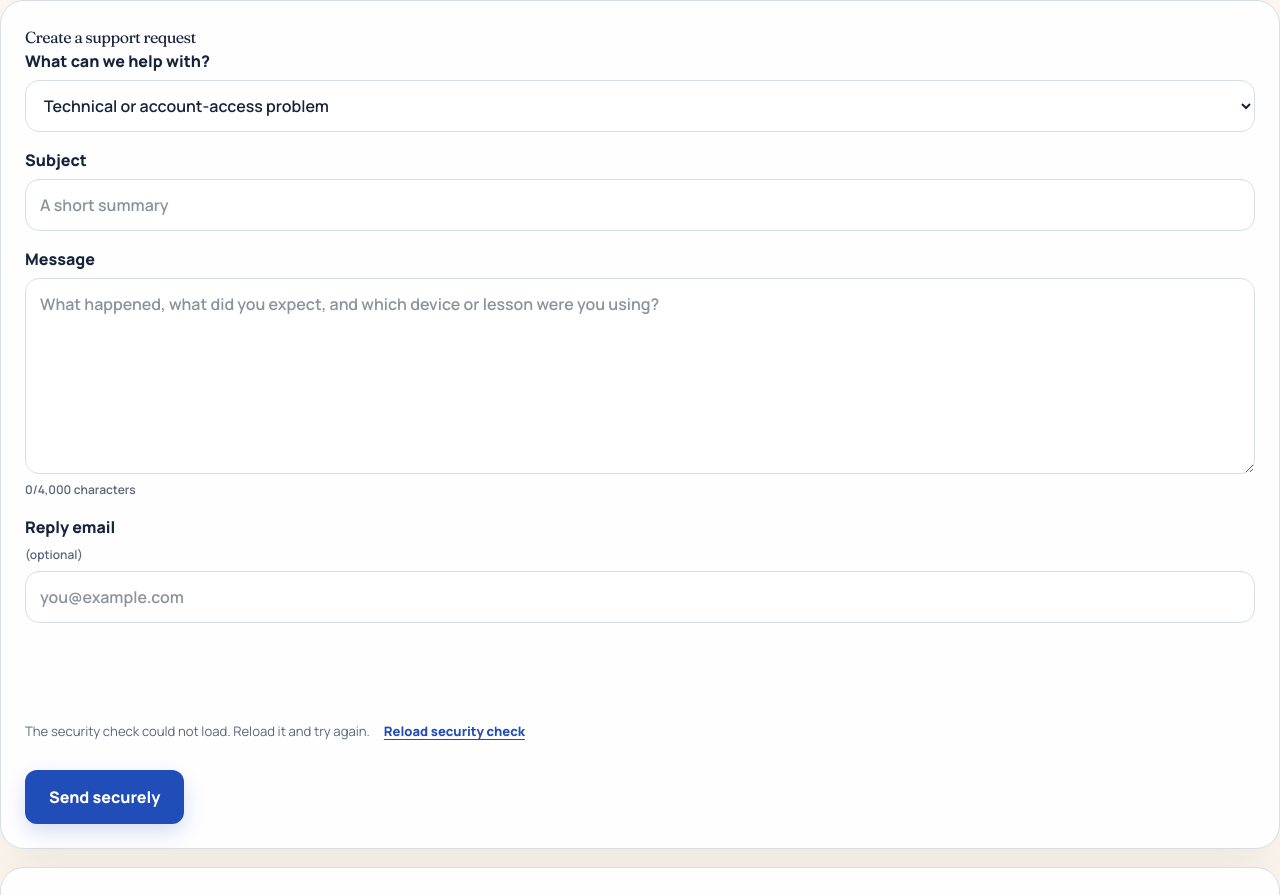
Test case: learner support recovery › shows the server error in context and safely resets the challenge
The width and height of the screenshot is (1280, 895).
Type "Sync issue" into the field labelled "Subject".
click(640, 205); type("Sync issue")  # box [25, 179, 1255, 231]
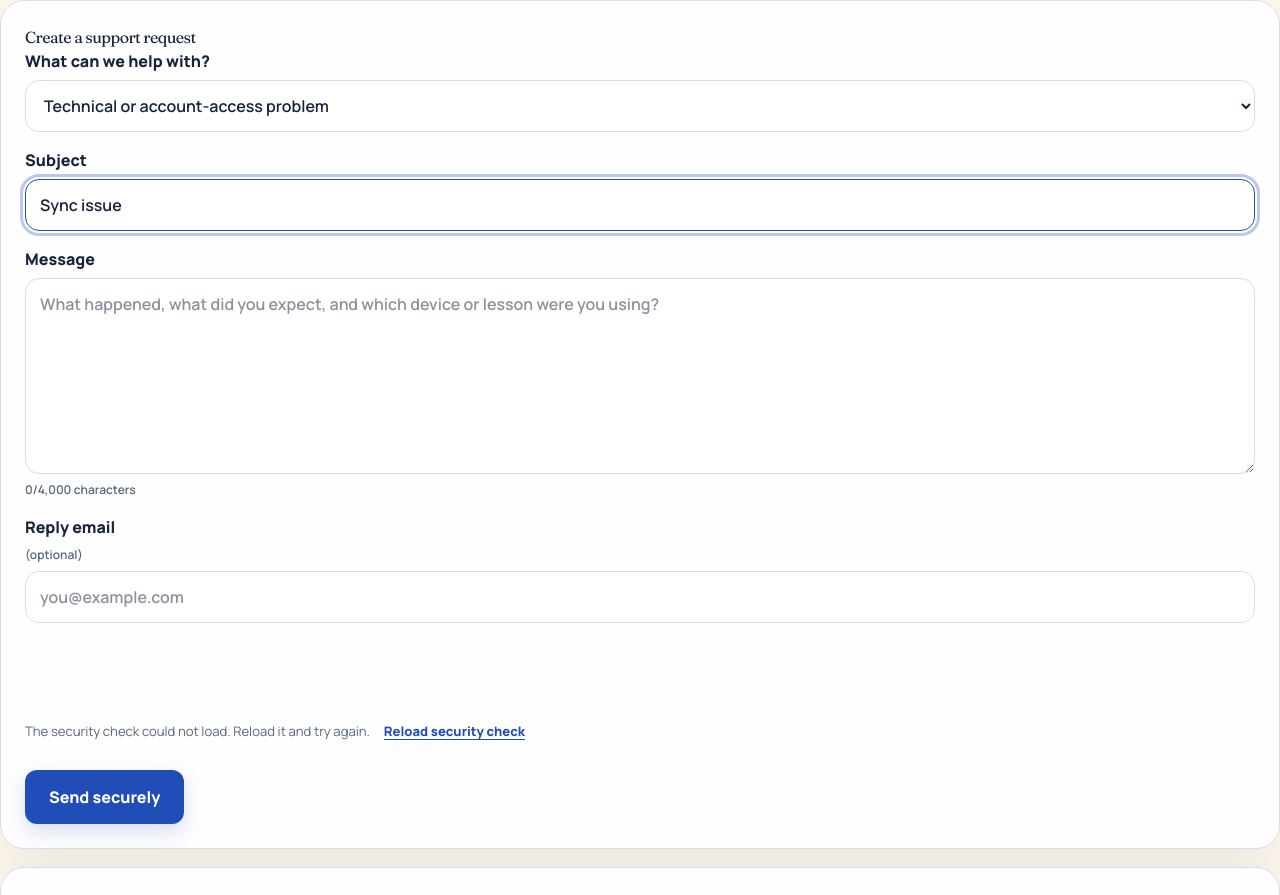
Type "My latest lesson is not visible yet." into the text box labelled "Message".
click(640, 376); type("My latest lesson is not visible yet.")  # box [25, 278, 1255, 474]
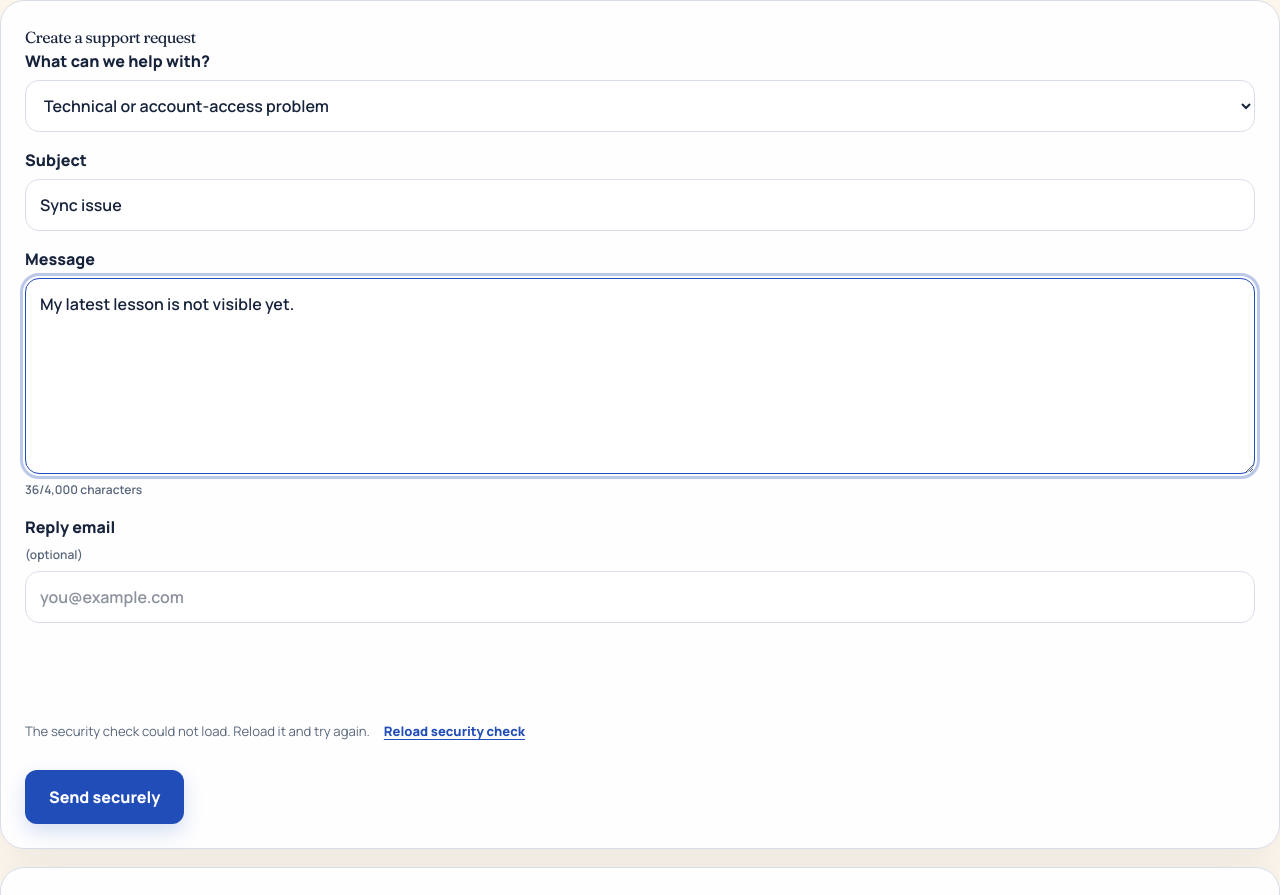
Click the button "Send securely".
click(105, 797)  # box [25, 770, 184, 824]
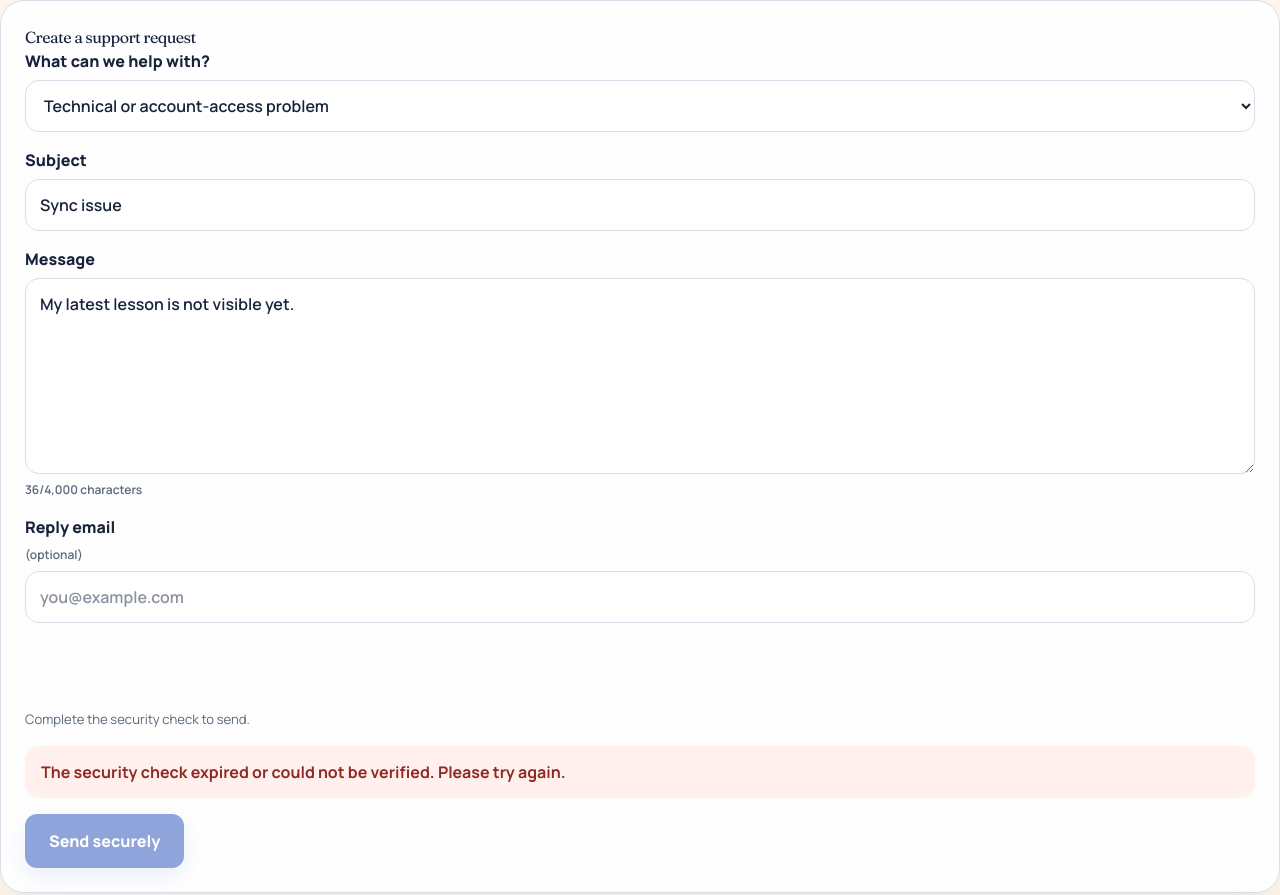
expect the message reads "The security check expired or could not be verified. Please try again.": met, box [41, 761, 566, 783]
